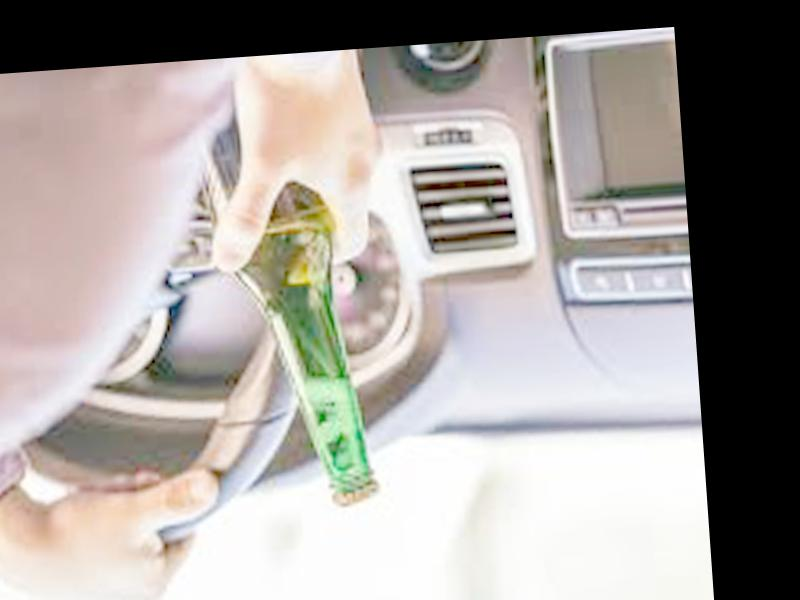Beer: (197, 94, 382, 517)
